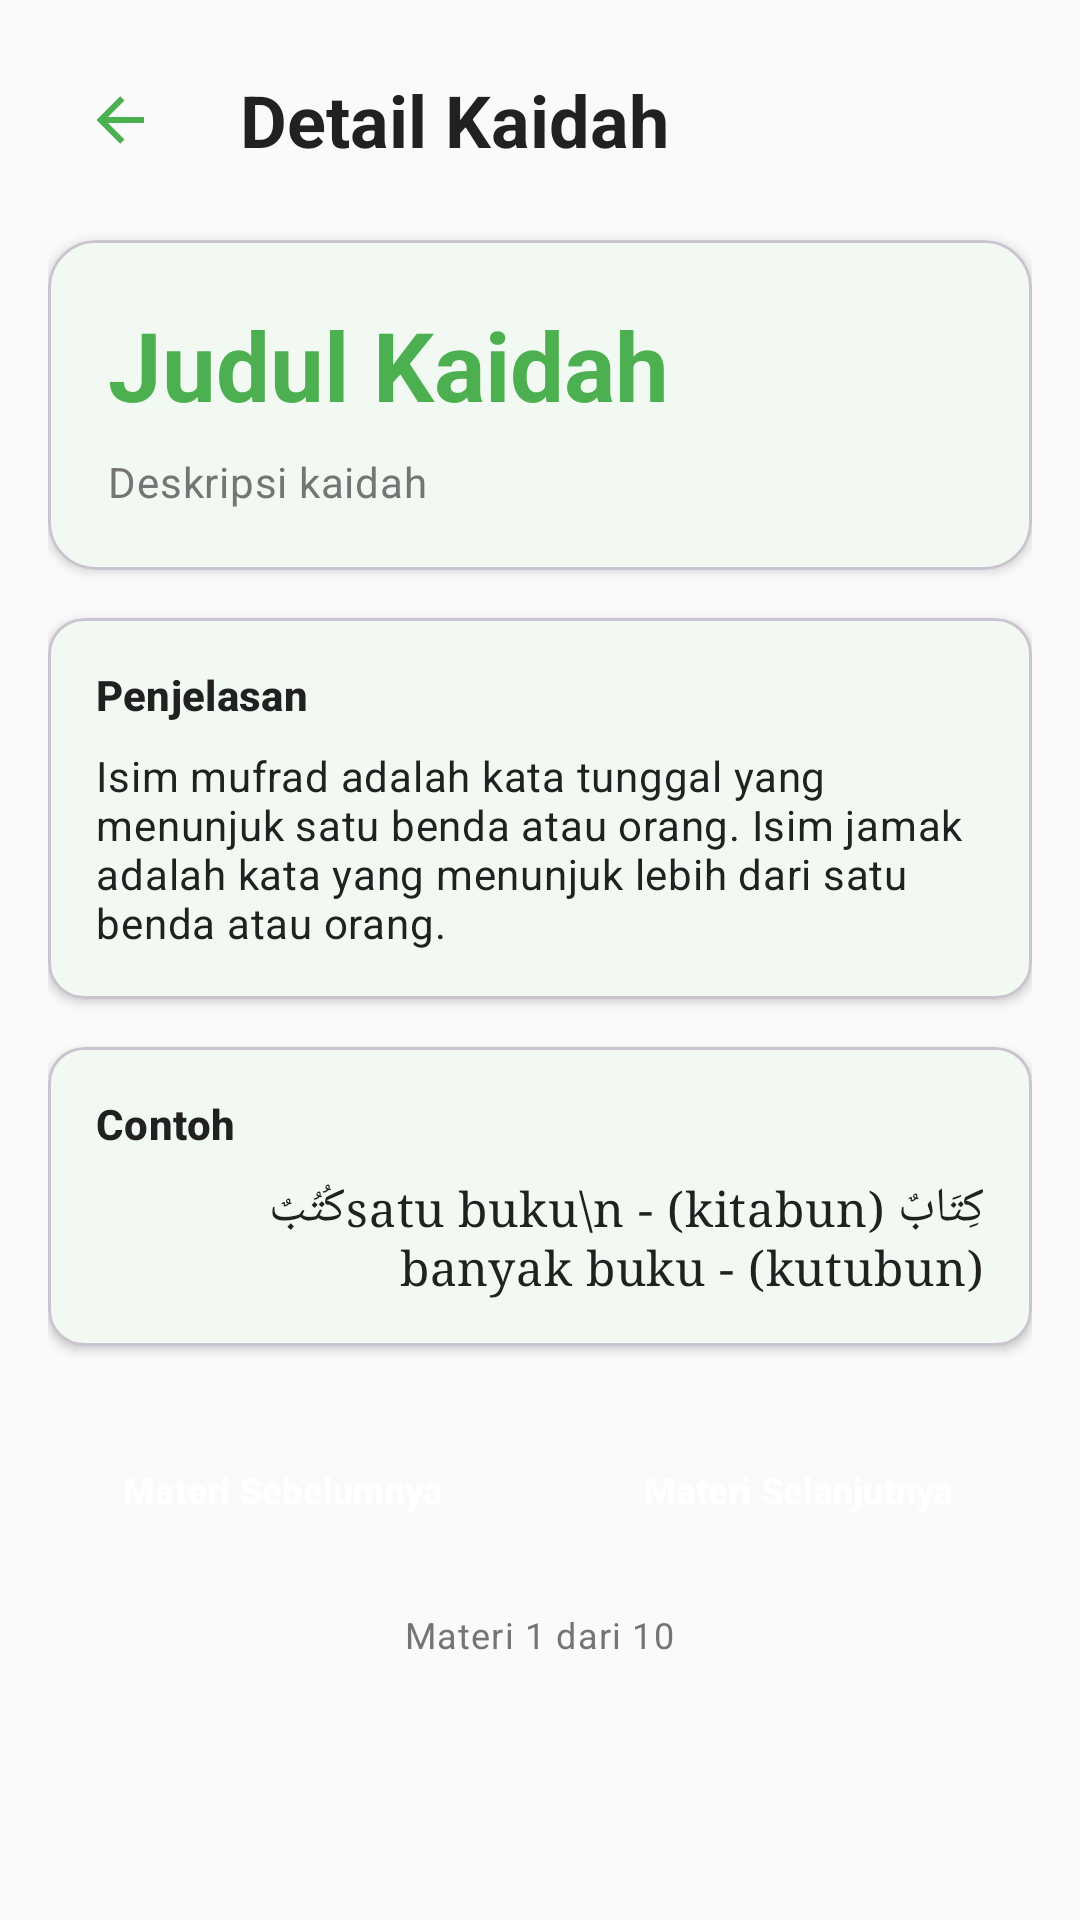

Named icons in this screenshot (1080×1920) and their centers, (x,y):
Kembali: (120,120)
